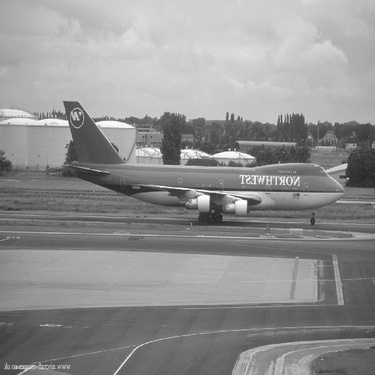airplane: (29, 85, 358, 246)
